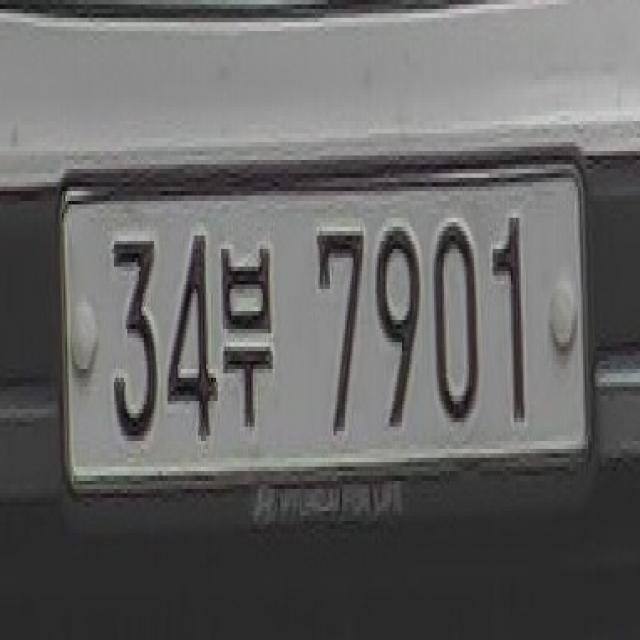0: (431, 218, 479, 422)
1: (489, 209, 526, 427)
3: (112, 226, 163, 444)
4: (162, 231, 220, 453)
7: (314, 218, 366, 440)
9: (373, 213, 424, 431)
bu: (221, 245, 275, 431)
license_plate: (57, 169, 591, 489)
